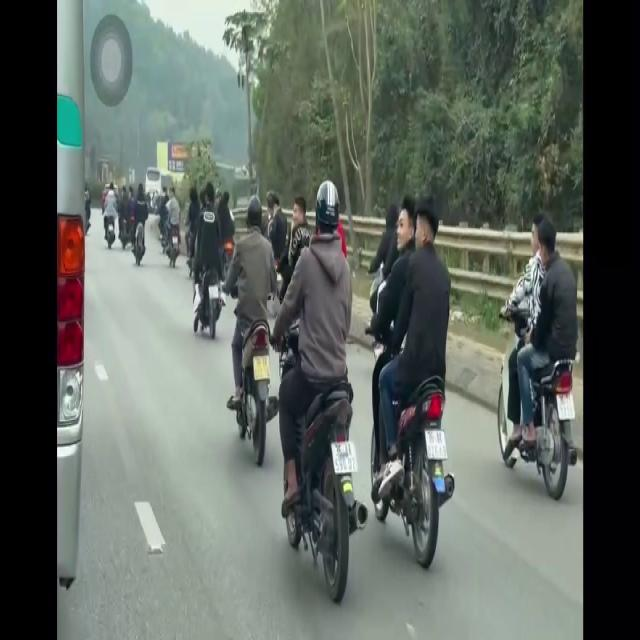helmet: (312, 178, 339, 271), (247, 185, 263, 247)
